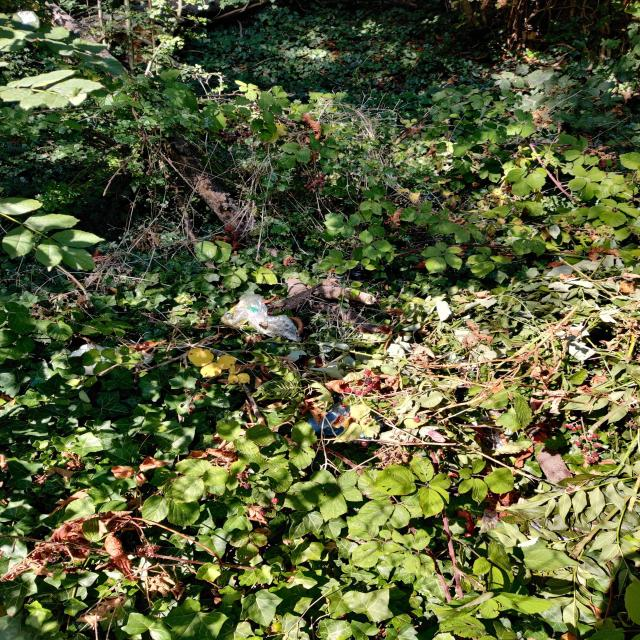litter: (67, 294, 374, 442)
